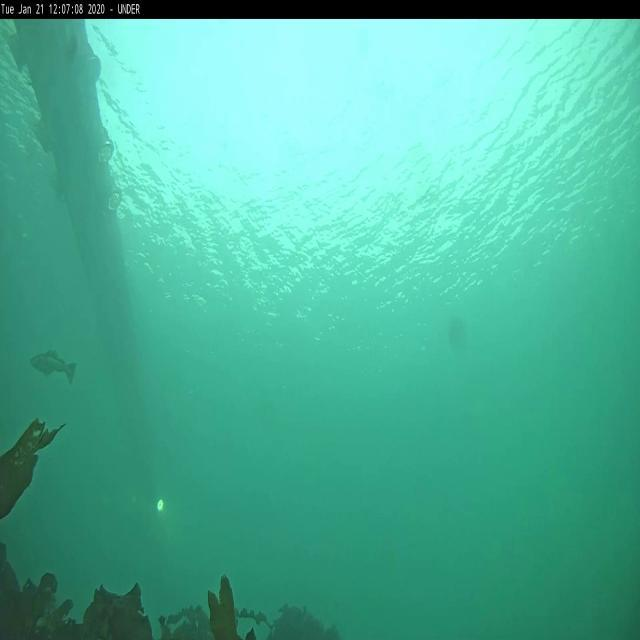fish: (30, 350, 76, 382)
